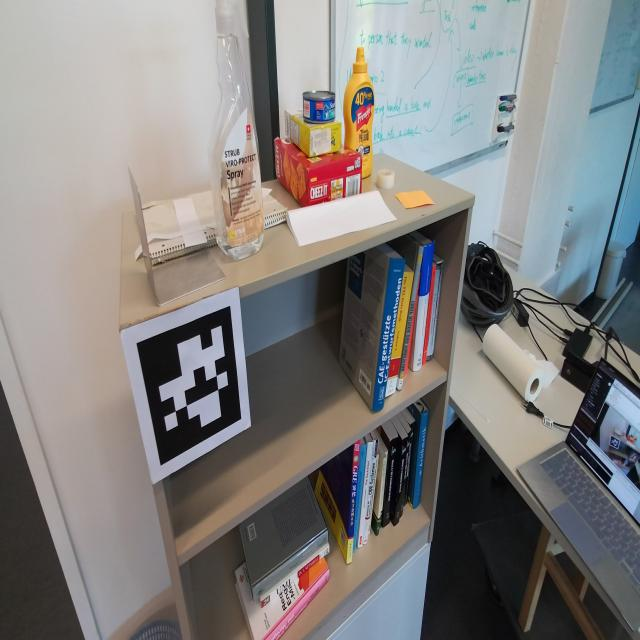Book Spine: (252, 530, 328, 603), (372, 258, 406, 412), (265, 569, 330, 640), (261, 546, 330, 608), (398, 246, 424, 390), (385, 272, 414, 397), (412, 241, 435, 372), (357, 442, 373, 549), (363, 439, 379, 545), (412, 410, 429, 509), (404, 273, 420, 377), (347, 439, 361, 555), (353, 443, 367, 553), (383, 437, 399, 528), (426, 266, 441, 360), (423, 265, 436, 365), (394, 437, 408, 526), (431, 264, 443, 360), (404, 420, 416, 508), (400, 430, 412, 518), (376, 457, 387, 536), (369, 454, 379, 535), (379, 451, 388, 529)
